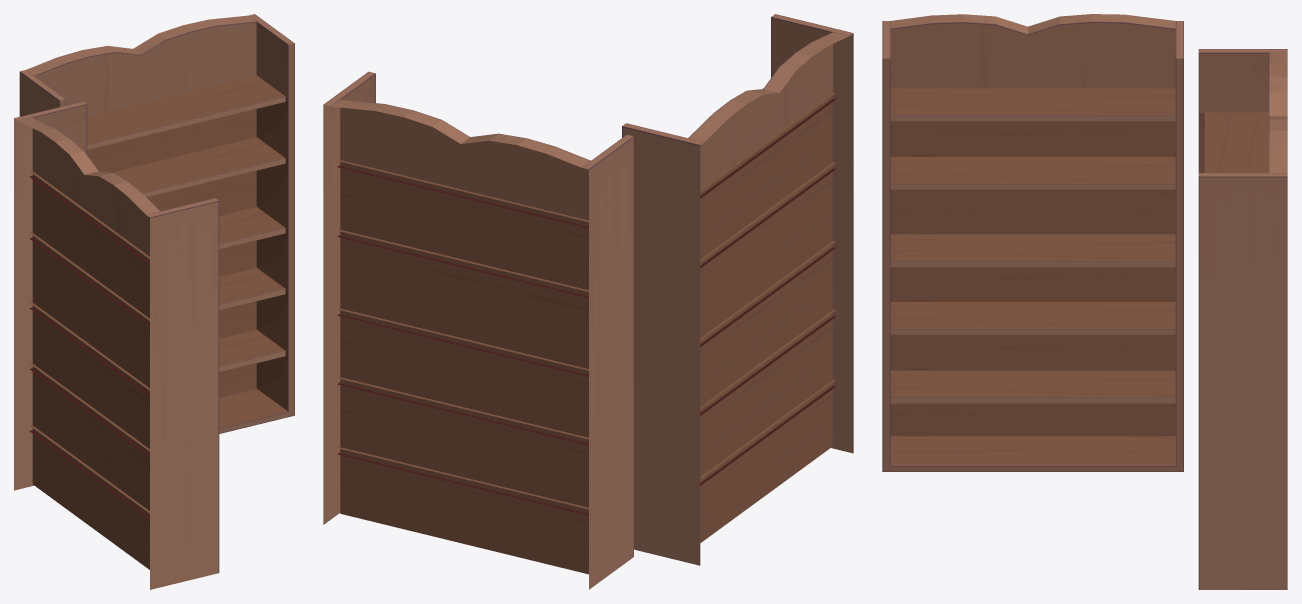
File: Mesh_Room_Bookcase_SM.fbx
3 views of the same model, side by side, from view 1: azimuth 30°, elevation 25°; view 2: azimuth 150°, elevation 25°; view 3: azimuth 270°, elevation 25° (orthographic). The views are drawn at different scales.
Parts seen in each view (by area): view 1: Mesh_Room_Bookcase; view 2: Mesh_Room_Bookcase; view 3: Mesh_Room_Bookcase.
Part boxes in pixels (x1,y1,x2,y2): Mesh_Room_Bookcase: (14,14,294,589); Mesh_Room_Bookcase: (323,14,853,589); Mesh_Room_Bookcase: (882,14,1287,589).
Bounding box in the file's own units: 191 × 240 × 210.
